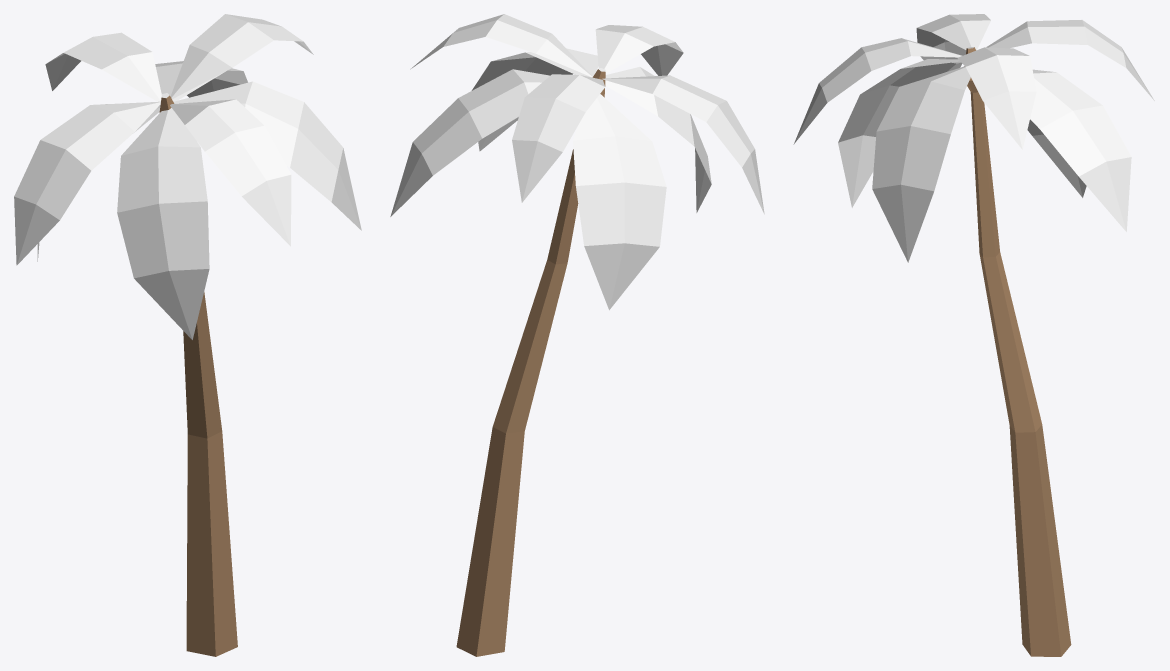
Rendered from Palm_Tree_OneSided_m_Snow_06_LOD.fbx.
3 views of the same model, side by side, from view 1: azimuth 30°, elevation 25°; view 2: azimuth 150°, elevation 25°; view 3: azimuth 270°, elevation 25° (orthographic). The views are drawn at different scales.
Visible parts, largest first — view 1: Palm_Tree_OneSided_m_Snow_06_LOD0; view 2: Palm_Tree_OneSided_m_Snow_06_LOD0; view 3: Palm_Tree_OneSided_m_Snow_06_LOD0.
Part boxes in pixels (<box>): Palm_Tree_OneSided_m_Snow_06_LOD0: <box>14,14,361,656</box>; Palm_Tree_OneSided_m_Snow_06_LOD0: <box>390,14,764,656</box>; Palm_Tree_OneSided_m_Snow_06_LOD0: <box>793,14,1154,656</box>.
Size of what is drawn, in the model's own units: 290 by 526 by 289.
